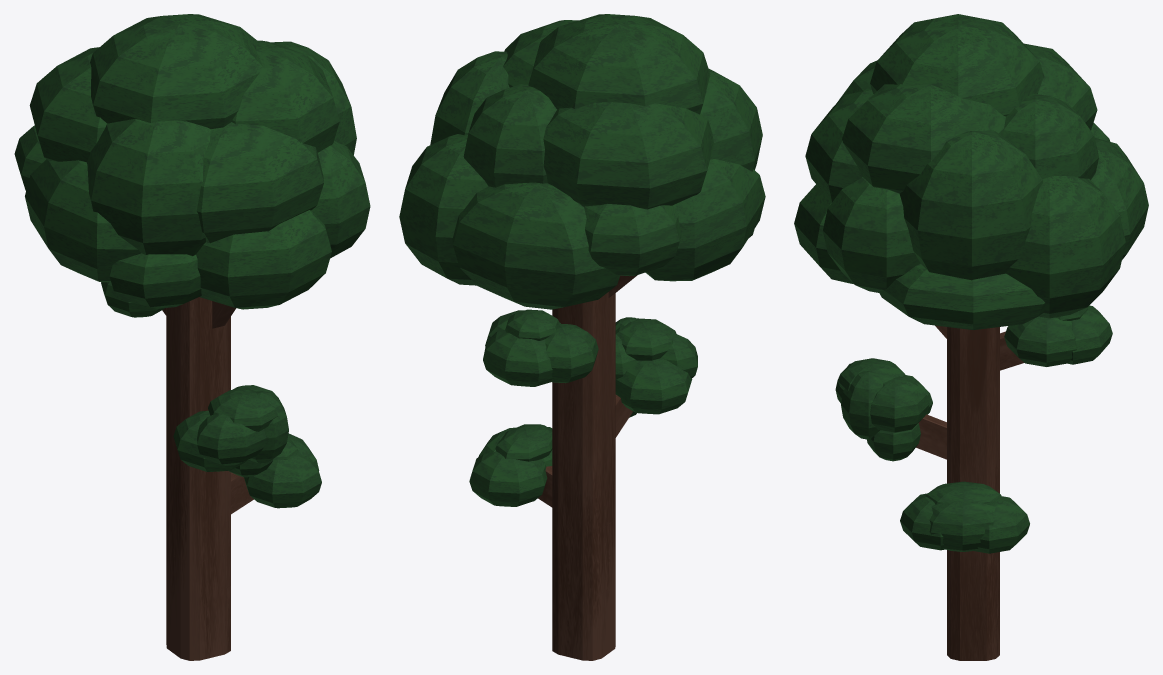
Rendered from Tree.fbx.
3 views of the same model, side by side, from view 1: azimuth 30°, elevation 25°; view 2: azimuth 150°, elevation 25°; view 3: azimuth 270°, elevation 25° (orthographic). The views are drawn at different scales.
Visible parts, largest first — view 1: Cube, Sphere.014, Sphere.011, Sphere.010, Sphere.007, Sphere.005, Sphere.013, Sphere.012, Sphere.008, Sphere.009, Sphere.021, Sphere.015 (+6 smaller); view 2: Cube, Sphere.012, Sphere.001, Sphere.014, Sphere.005, Sphere.002, Sphere.004, Sphere.006, Sphere.011, Sphere.003, Sphere.022, Sphere.018 (+7 smaller); view 3: Sphere.003, Cube, Sphere.002, Sphere.014, Sphere.013, Sphere.008, Sphere, Sphere.004, Sphere.010, Sphere.001, Sphere.026, Sphere.023 (+11 smaller).
Part boxes in pixels (x1,y1,x2,y2): Cube: (162, 297, 253, 660); Sphere.014: (90, 14, 262, 128); Sphere.011: (87, 119, 211, 255); Sphere.010: (196, 122, 323, 243); Sphere.007: (196, 210, 331, 309); Sphere.005: (25, 159, 140, 282); Sphere.013: (231, 40, 339, 152); Sphere.012: (29, 47, 107, 162); Sphere.008: (311, 141, 370, 258); Sphere.009: (109, 253, 201, 308); Sphere.021: (244, 452, 321, 508); Sphere.015: (197, 414, 266, 465); Cube: (538, 275, 637, 660); Sphere.012: (543, 102, 714, 209); Sphere.001: (452, 182, 620, 309); Sphere.014: (528, 14, 710, 114); Sphere.005: (645, 159, 765, 281); Sphere.002: (399, 134, 488, 285); Sphere.004: (463, 84, 556, 187); Sphere.006: (584, 204, 681, 276); Sphere.011: (700, 69, 762, 171); Sphere.003: (430, 51, 509, 144); Sphere.022: (469, 451, 547, 506); Sphere.018: (615, 358, 692, 414); Sphere.003: (899, 130, 1043, 280); Cube: (916, 325, 1024, 660); Sphere.002: (1006, 176, 1125, 318); Sphere.014: (870, 14, 1044, 116); Sphere.013: (842, 84, 1005, 193); Sphere.008: (823, 177, 920, 292); Sphere: (879, 264, 1045, 329); Sphere.004: (1003, 93, 1098, 179); Sphere.010: (805, 90, 873, 202); Sphere.001: (1091, 138, 1148, 259); Sphere.026: (1004, 316, 1076, 366); Sphere.023: (929, 501, 995, 551).
Bounding box in the file's own units: 835 × 1636 × 861.
